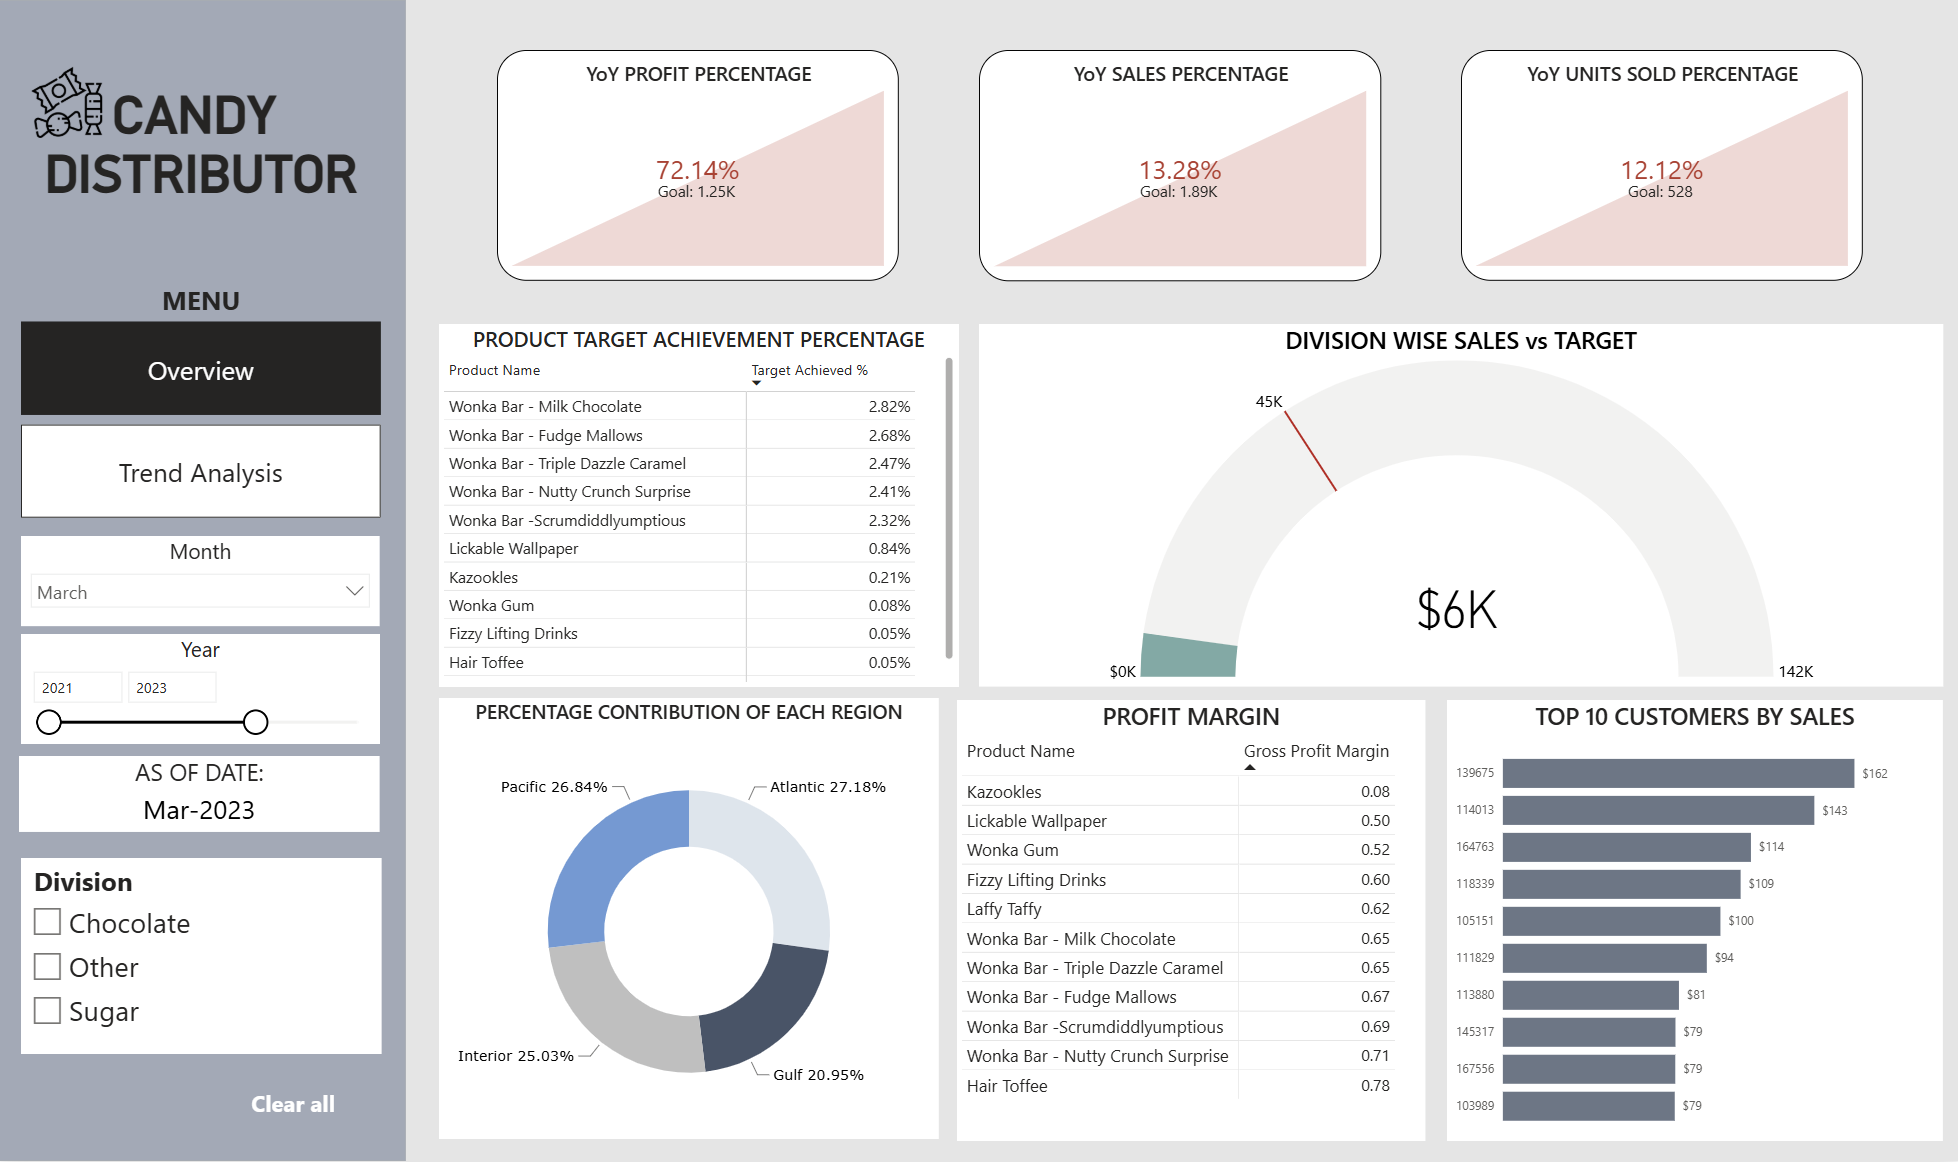

The dashboard page shown, as its layout file describes it:
{"tool":"powerbi","page":{"name":"Overview","canvas":[2000,1185],"ordinal":0},"visuals":[{"type":"shape","title":"AS OF DATE","box":[18,550,370,300],"z":0},{"type":"actionButton","box":[20.8,569.8,367.9,279.2],"z":1000},{"type":"gauge","title":"DIVISION WISE SALES vs TARGET","fields":{"Y":["Candy_Sales.Total Sales"],"TargetValue":["Sum(Candy_Targets.Target)"],"MaxValue":["Candy_Targets.Min target"]},"box":[1000,330,984,370],"z":2000},{"type":"pivotTable","title":"PRODUCT TARGET ACHIEVEMENT PERCENTAGE ","fields":{"Rows":["Candy_Sales.Product Name"],"Values":["Candy_Targets.Target Achieved %"]},"box":[448,330,530,370],"z":3000},{"type":"pivotTable","title":"PROFIT MARGIN","fields":{"Values":["Candy_Sales.Gross Profit Margin"],"Rows":["Candy_Sales.Product Name"]},"box":[978,714,478,450],"z":4000},{"type":"donutChart","title":"PERCENTAGE CONTRIBUTION OF EACH REGION","fields":{"Category":["Candy_Sales.Region"],"Y":["Candy_Sales.Total Sales"]},"box":[448,712,510,450],"z":5000},{"type":"shape","box":[0,0,415.1,1184.9],"z":6000},{"type":"pageNavigator","title":"MENU","box":[22.6,286.8,367.9,241.5],"z":7000},{"type":"slicer","fields":{"Values":["Candy_Targets.Division"]},"box":[22,876,368,200],"z":8000},{"type":"textbox","box":[22,64,368,158],"z":9000},{"type":"image","box":[17.3,63.5,105.8,82.7],"z":10000},{"type":"actionButton","box":[206,1092,188,66],"z":11000},{"type":"slicer","title":"Year","fields":{"Values":["Calendar.Date.Variation.Date Hierarchy.Year"]},"box":[22,646,366,112],"z":12000},{"type":"slicer","title":"Month","fields":{"Values":["Calendar.Date.Variation.Date Hierarchy.Month"]},"box":[22,546,366,92],"z":13000},{"type":"card","title":"AS OF DATE:","fields":{"Values":["Calendar.As of Date"]},"box":[20.8,771.7,367.9,77.4],"z":14000},{"type":"kpi","title":"YoY PROFIT PERCENTAGE","fields":{"Indicator":["Candy_Sales.YoY Profit %"],"TrendLine":["Calendar.Start of the year"],"Goal":["Candy_Sales.Profit Last Year"]},"box":[507.8,51,409.8,235.3],"z":15000},{"type":"kpi","title":"YoY SALES PERCENTAGE","fields":{"Indicator":["Candy_Sales.YoY Sales %"],"TrendLine":["Calendar.Start of the year"],"Goal":["Candy_Sales.Sales Last Year"]},"box":[1000,51.3,410.3,235.9],"z":16000},{"type":"kpi","title":"YoY UNITS SOLD PERCENTAGE ","fields":{"Indicator":["Candy_Sales.YoY units sold %"],"TrendLine":["Calendar.Start of the year"],"Goal":["Candy_Sales.Total units sold Last Year"]},"box":[1492.2,51,409.8,235.3],"z":17000},{"type":"barChart","title":"TOP 10 CUSTOMERS BY SALES","fields":{"Category":["Candy_Sales.Customer ID"],"Y":["Candy_Sales.Total Sales"]},"box":[1478,714,506,450],"z":18000}]}

Visuals, with their boxes in screenshot pixels (x1, y1, x2, y2), scaled from the page's 2000x1185 canvas onto the 1958x1162 screenshot:
"AS OF DATE" shape: select_region(18, 539, 380, 834)
actionButton: select_region(20, 559, 381, 833)
"DIVISION WISE SALES vs TARGET" gauge: select_region(979, 324, 1942, 686)
"PRODUCT TARGET ACHIEVEMENT PERCENTAGE " pivotTable: select_region(439, 324, 957, 686)
"PROFIT MARGIN" pivotTable: select_region(957, 700, 1425, 1141)
"PERCENTAGE CONTRIBUTION OF EACH REGION" donutChart: select_region(439, 698, 938, 1139)
shape: select_region(0, 0, 406, 1161)
"MENU" pageNavigator: select_region(22, 281, 382, 518)
slicer - Candy_Targets.Division: select_region(22, 859, 382, 1055)
textbox: select_region(22, 63, 382, 218)
image: select_region(17, 62, 121, 143)
actionButton: select_region(202, 1071, 386, 1136)
"Year" slicer: select_region(22, 633, 380, 743)
"Month" slicer: select_region(22, 535, 380, 626)
"AS OF DATE:" card: select_region(20, 757, 381, 833)
"YoY PROFIT PERCENTAGE" kpi: select_region(497, 50, 898, 281)
"YoY SALES PERCENTAGE" kpi: select_region(979, 50, 1381, 282)
"YoY UNITS SOLD PERCENTAGE " kpi: select_region(1461, 50, 1862, 281)
"TOP 10 CUSTOMERS BY SALES" barChart: select_region(1447, 700, 1942, 1141)
